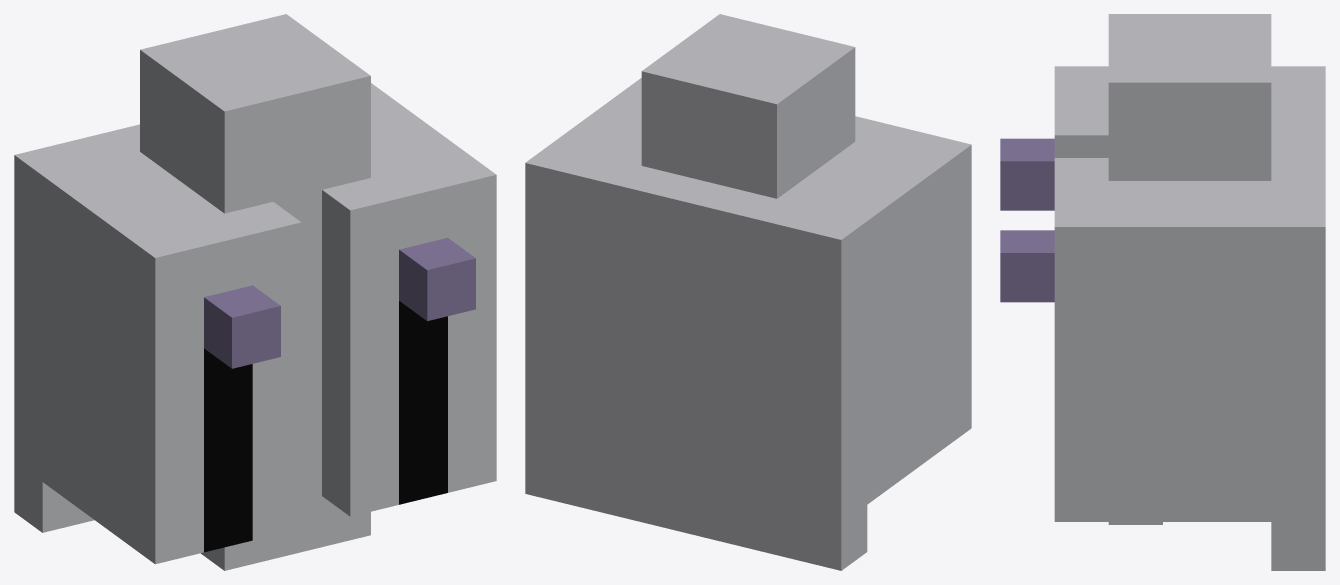
The model's file is ghost_idle_0.obj.
The picture shows the model from 3 angles, left to right: view 1: azimuth 30°, elevation 25°; view 2: azimuth 150°, elevation 25°; view 3: azimuth 270°, elevation 25°; orthographic projection. The views are drawn at different scales.
Bounding box in the file's own units: 0.7 × 0.9 × 0.6.
Materials: 1 (1 with a texture image).
